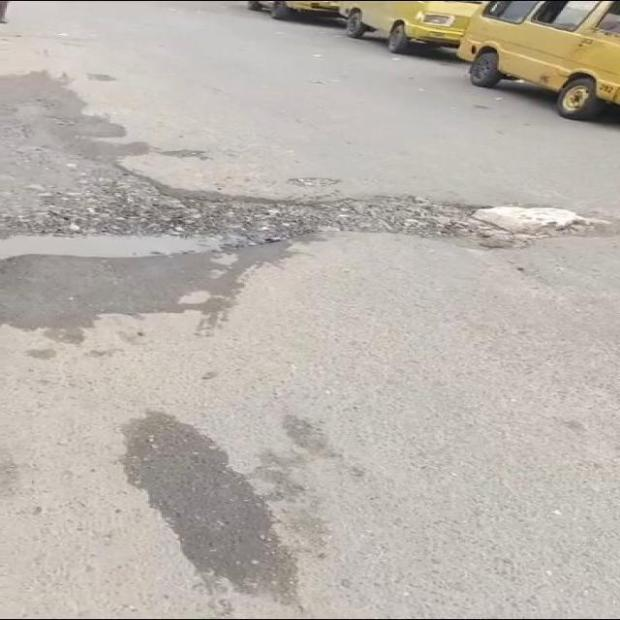lubang: (0, 167, 610, 259)
